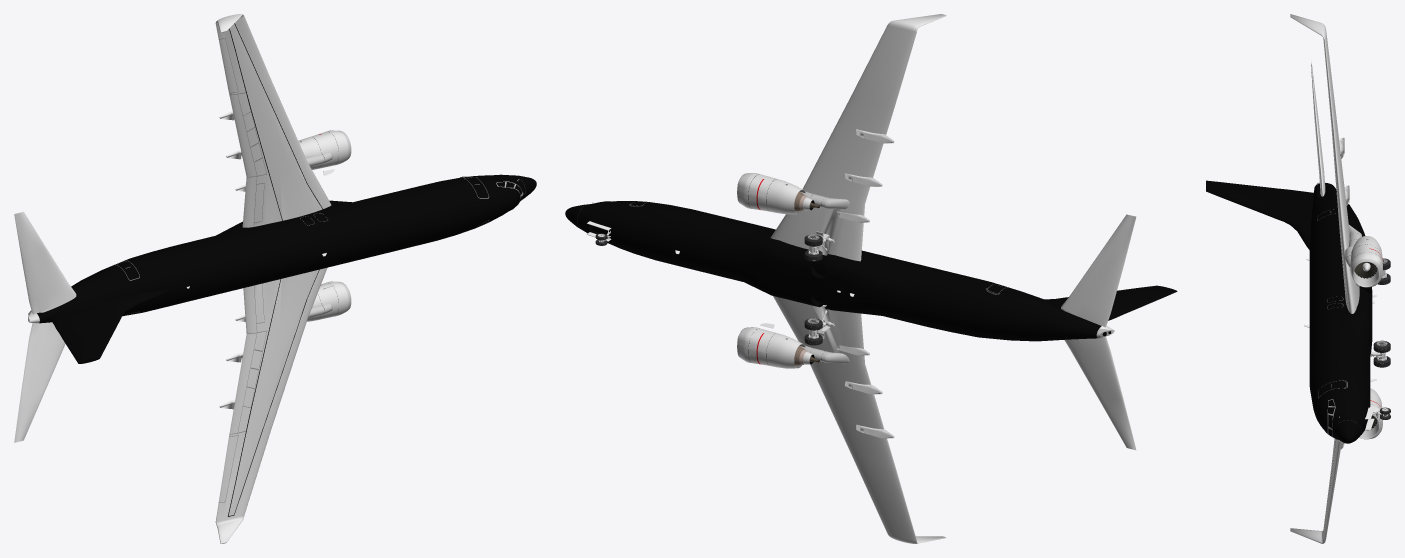
The picture shows the model from 3 angles, left to right: view 1: azimuth 30°, elevation 25°; view 2: azimuth 150°, elevation 25°; view 3: azimuth 270°, elevation 25°; orthographic projection. The views are drawn at different scales.
Parts seen in each view (by area): view 1: Cylinder_Material.005_0, Cylinder.004_Material.030_0, Cylinder.011__0, Cylinder.010__0, Cylinder.014_Material.012_0, Cylinder.004_Material.032_0, Cylinder.015_Material.012_0, Cylinder.004_Material.031_0, Cylinder.013__0, Cylinder_Material.006_0; view 2: Cylinder_Material.005_0, Cylinder.004_Material.030_0, Cylinder.011__0, Cylinder.015_Material.012_0, Cylinder.014_Material.012_0; view 3: Cylinder_Material.005_0, Cylinder.004_Material.030_0, Cylinder.010__0, Cylinder.014_Material.012_0, Cylinder.011__0, Cylinder_Material.006_0, Cylinder.013__0, Cylinder.014_Material.014_0, gearR, Cylinder.021_Material.023_0, Cylinder.015_Material.012_0, Cylinder.016_Material.011_0 (+1 smaller).
Part boxes in pixels (left/top/right/bottom): Cylinder_Material.005_0: left=37, top=174, right=536, bottom=323; Cylinder.004_Material.030_0: left=215, top=14, right=331, bottom=543; Cylinder.011__0: left=14, top=211, right=76, bottom=442; Cylinder.010__0: left=71, top=290, right=167, bottom=363; Cylinder.014_Material.012_0: left=298, top=130, right=348, bottom=169; Cylinder.004_Material.032_0: left=228, top=23, right=322, bottom=516; Cylinder.015_Material.012_0: left=307, top=281, right=348, bottom=321; Cylinder.004_Material.031_0: left=218, top=38, right=266, bottom=502; Cylinder.013__0: left=50, top=309, right=88, bottom=361; Cylinder_Material.006_0: left=152, top=183, right=465, bottom=260; Cylinder_Material.005_0: left=565, top=201, right=1101, bottom=341; Cylinder.004_Material.030_0: left=770, top=14, right=946, bottom=543; Cylinder.011__0: left=1061, top=214, right=1136, bottom=450; Cylinder.015_Material.012_0: left=739, top=327, right=812, bottom=368; Cylinder.014_Material.012_0: left=739, top=173, right=812, bottom=214; Cylinder_Material.005_0: left=1309, top=183, right=1372, bottom=443; Cylinder.004_Material.030_0: left=1290, top=14, right=1359, bottom=543; Cylinder.010__0: left=1206, top=180, right=1313, bottom=249; Cylinder.014_Material.012_0: left=1350, top=236, right=1382, bottom=283; Cylinder.011__0: left=1311, top=60, right=1325, bottom=196; Cylinder_Material.006_0: left=1330, top=223, right=1335, bottom=378; Cylinder.013__0: left=1209, top=181, right=1313, bottom=199; Cylinder.014_Material.014_0: left=1351, top=259, right=1380, bottom=287; gearR: left=1372, top=340, right=1390, bottom=367; Cylinder.021_Material.023_0: left=1345, top=225, right=1361, bottom=266; Cylinder.015_Material.012_0: left=1370, top=388, right=1382, bottom=434; Cylinder.016_Material.011_0: left=1354, top=262, right=1377, bottom=278.
Size of the model in its own units: 39.5 by 35.8 by 11.63.
Materials: 82 (1 with a texture image).
